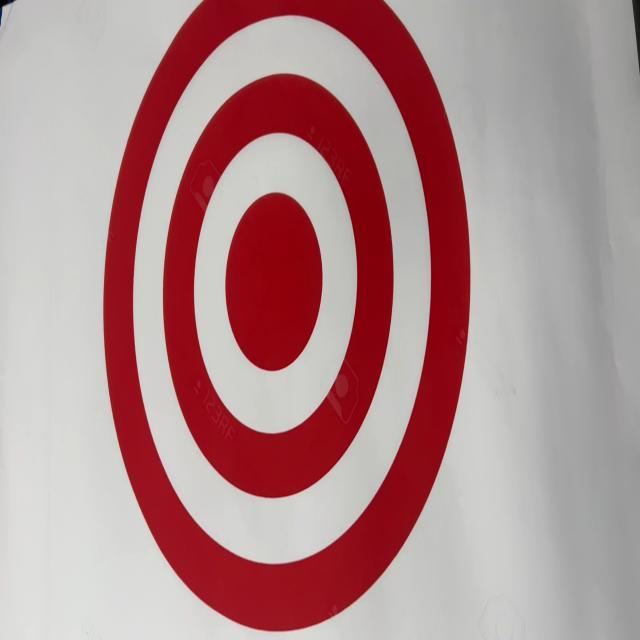target_red: (84, 0, 480, 635)
